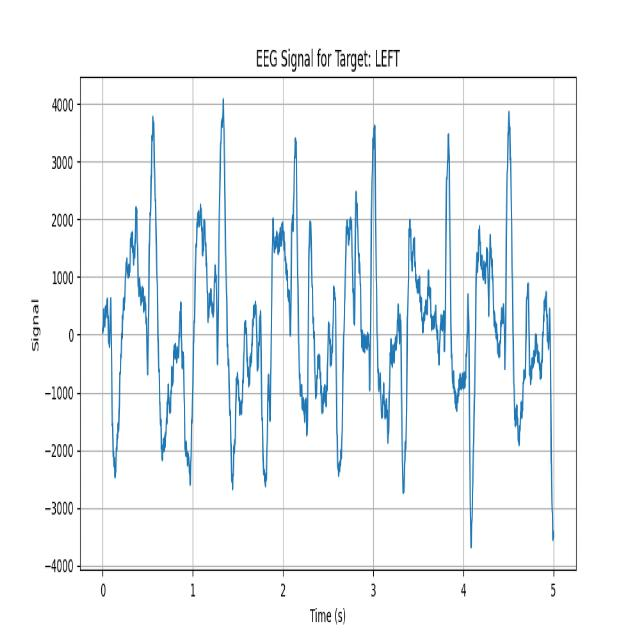LEFT: (466, 88, 540, 552), (318, 91, 394, 515), (393, 87, 467, 515), (250, 91, 320, 515), (112, 101, 182, 510), (182, 94, 249, 512)
